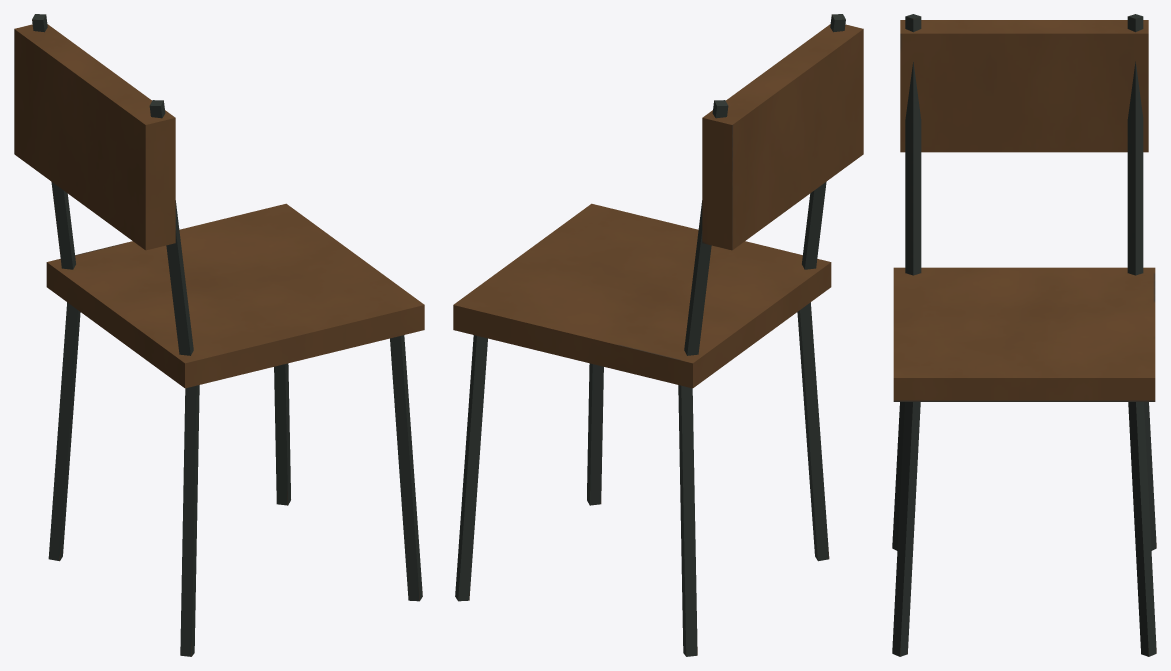
File: zidle_f3b274b6.glb
The picture shows the model from 3 angles, left to right: view 1: azimuth 30°, elevation 25°; view 2: azimuth 150°, elevation 25°; view 3: azimuth 270°, elevation 25°; orthographic projection. The views are drawn at different scales.
Parts seen in each view (by area): view 1: dum; view 2: dum; view 3: dum.
Boxes of the visible parts, bbox=[...] form: dum: bbox=[14, 14, 424, 656]; dum: bbox=[453, 14, 863, 656]; dum: bbox=[892, 14, 1156, 656].
Bounding box in the file's own units: 0.4612 × 0.8798 × 0.4037.
1 material, 1 textured.
